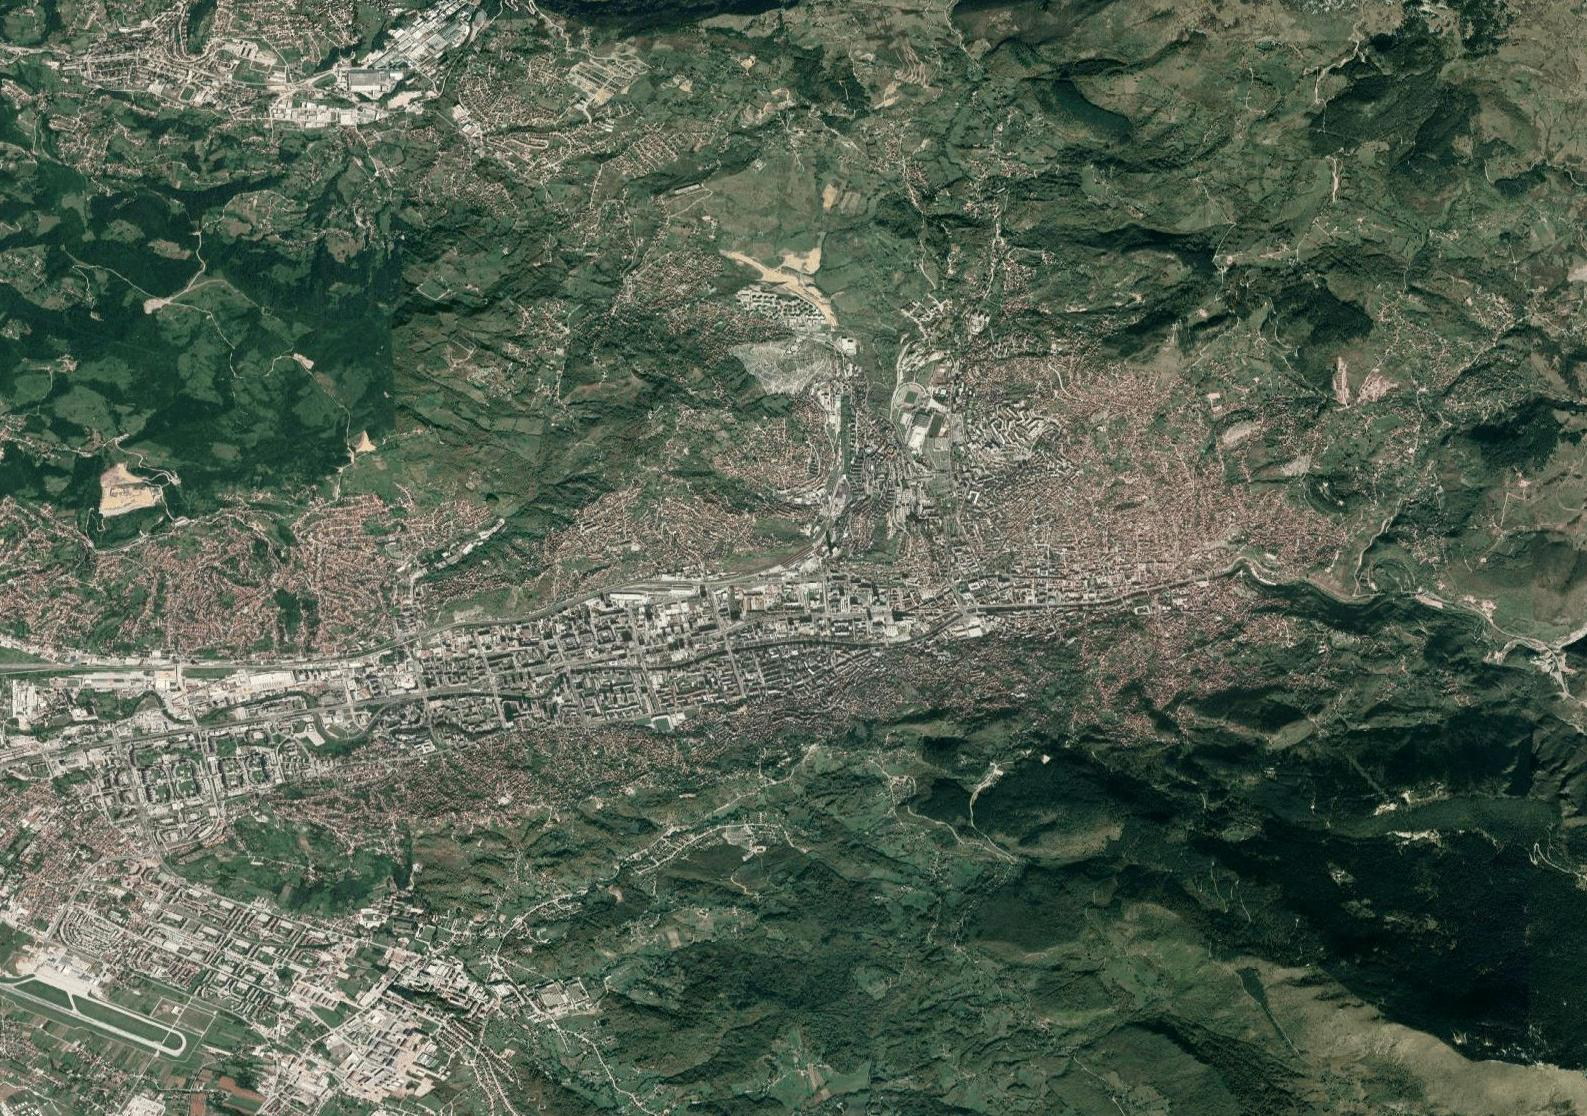train_station: (774, 531, 824, 580)
